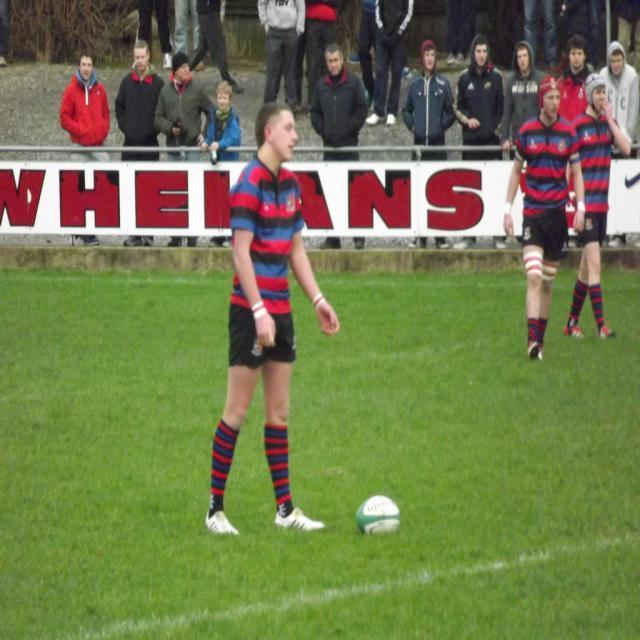football: (349, 485, 412, 557)
